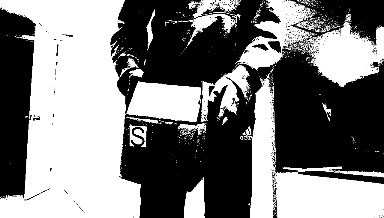S: (129, 125, 146, 147)
